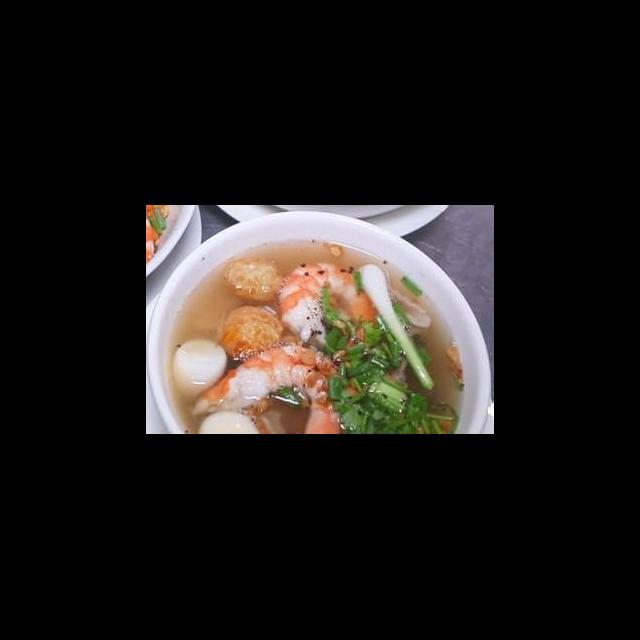tom: (188, 342, 361, 434), (273, 260, 384, 370)
trung: (169, 336, 231, 399), (194, 406, 264, 434)
